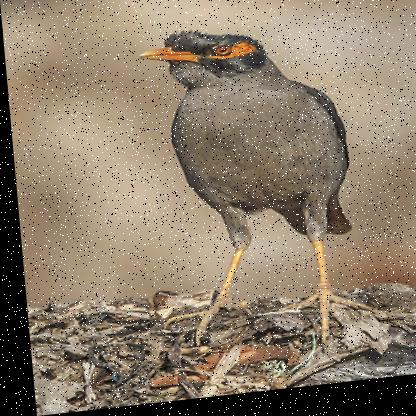Burung: (137, 23, 377, 371)
